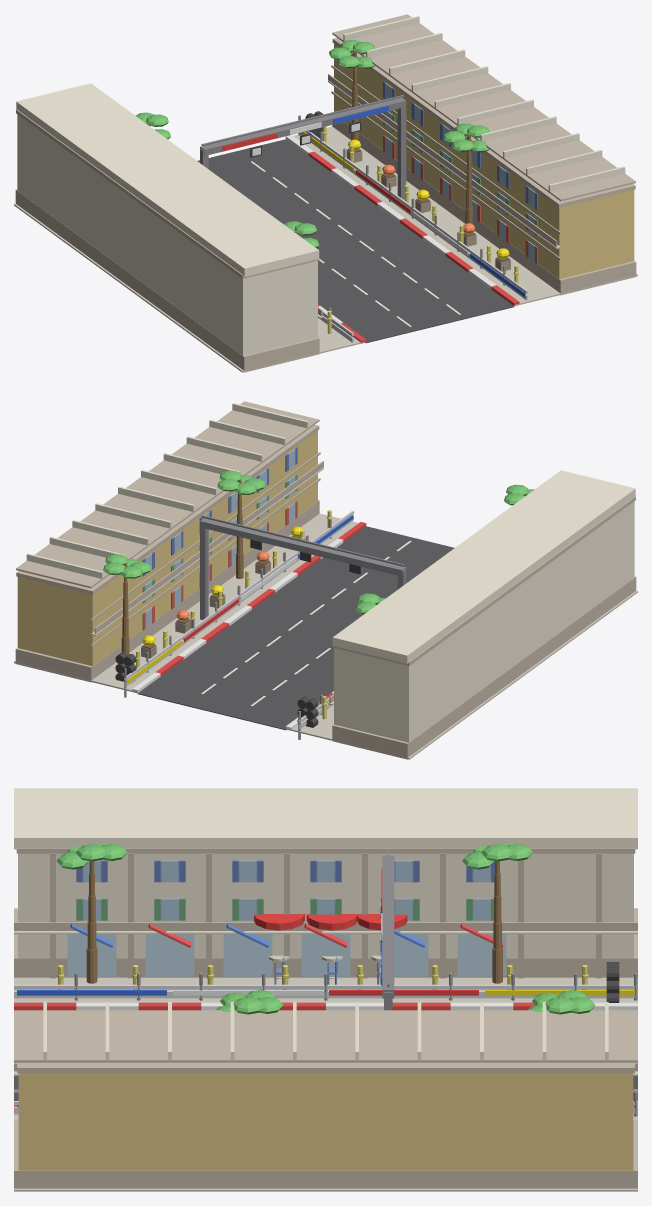
Rendered from env1-2.glb.
3 views of the same model, one above another, from view 1: azimuth 30°, elevation 25°; view 2: azimuth 150°, elevation 25°; view 3: azimuth 270°, elevation 25° (orthographic). The views are drawn at different scales.
Visible parts, largest first — view 1: env1-2.001; view 2: env1-2.001; view 3: env1-2.001.
Part boxes in pixels (box(x1,y1,x2,y2)): env1-2.001: box(14, 14, 637, 372); env1-2.001: box(14, 401, 637, 759); env1-2.001: box(14, 788, 637, 1191).
Size of the model in its own units: 20 by 5.49 by 20.
